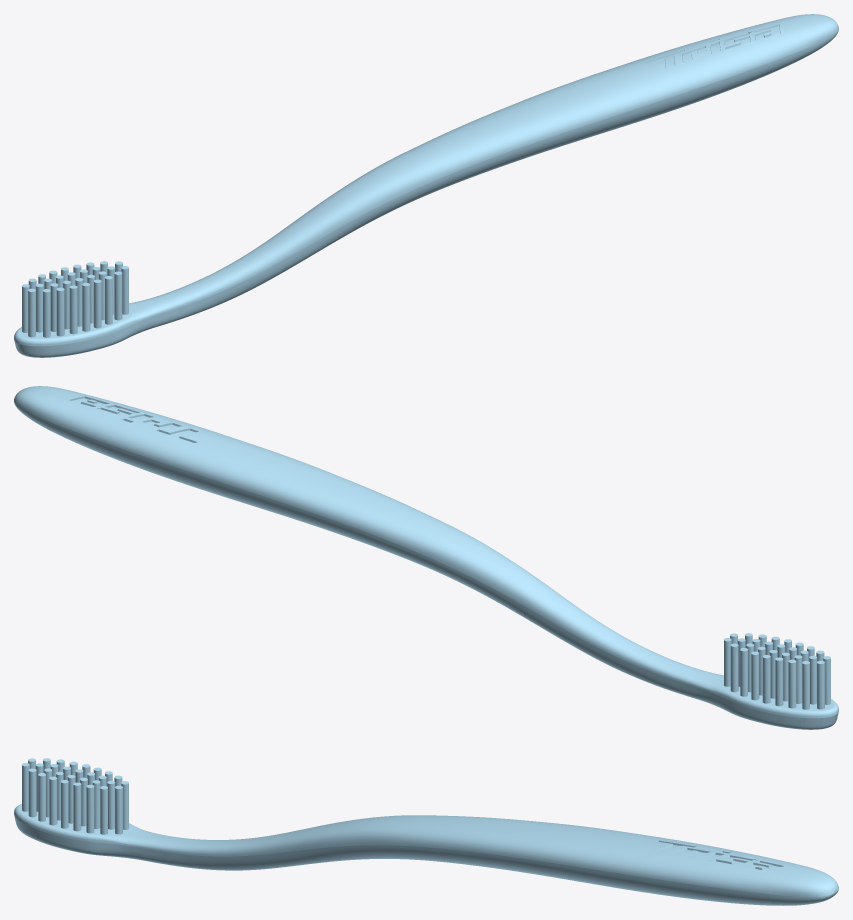
File: brush.gltf
3 renders of one model, top to bottom at view 1: azimuth 30°, elevation 25°; view 2: azimuth 150°, elevation 25°; view 3: azimuth 330°, elevation 25°, orthographic.
Parts seen in each view (by area): view 1: Griff, BF; view 2: Griff, BF; view 3: Griff, BF.
Boxes of the visible parts, x1=… form: Griff: x1=14, y1=14, x2=838, y2=357; BF: x1=22, y1=261, x2=128, y2=337; Griff: x1=14, y1=386, x2=838, y2=729; BF: x1=724, y1=633, x2=830, y2=709; Griff: x1=14, y1=804, x2=838, y2=905; BF: x1=22, y1=758, x2=128, y2=834.
Bounding box in the file's own units: 0.1902 × 0.0324 × 0.0157.
